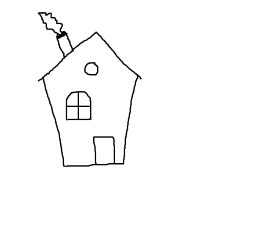closed_window: (62, 84, 97, 123)
door: (86, 130, 119, 165)
single_line_roof: (33, 29, 153, 81)
smoking_chimney: (35, 9, 79, 63)
wall: (42, 76, 148, 171)
